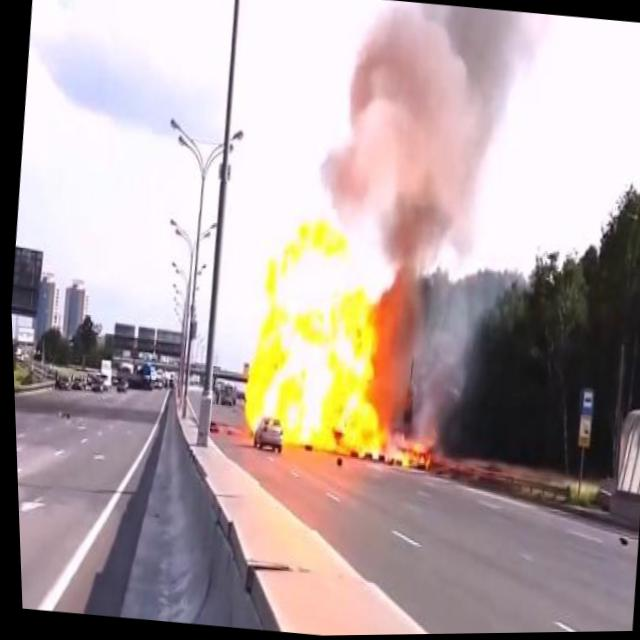fire: (229, 204, 408, 466), (389, 427, 433, 477)
